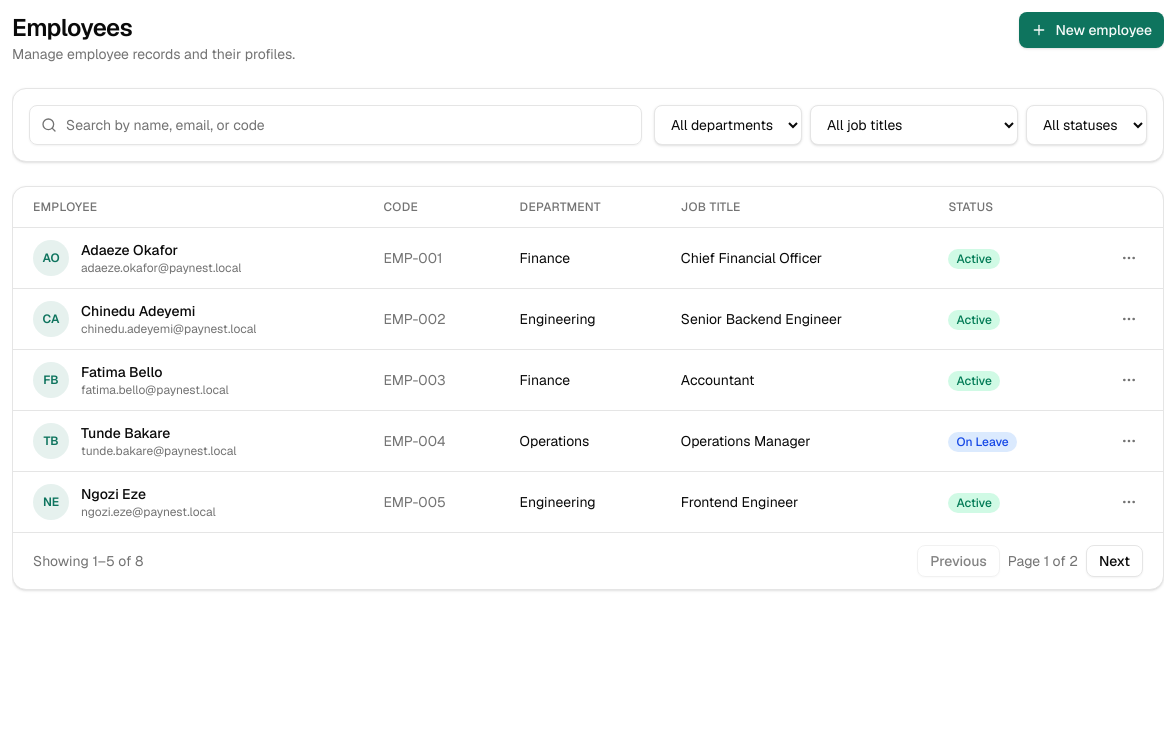
Test: employees list › filters by department
Select "Finance" in the dropdown named "Filter by department" at (728, 125), box [654,105,802,145]
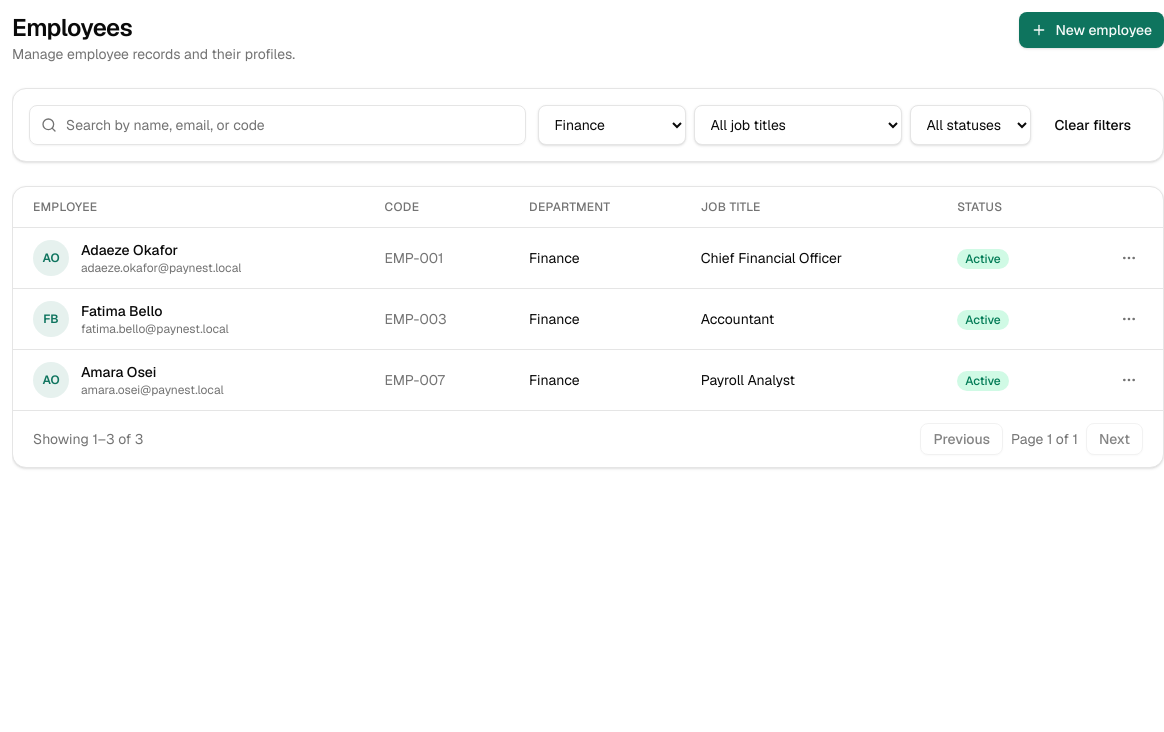
Check: the text "Amara Osei" is shown, box [81,363,156,381]
Check: the text "Chinedu Adeyemi" is gone
Check: the text "Showing 1–3 of 3" is shown, box [33,429,143,449]
